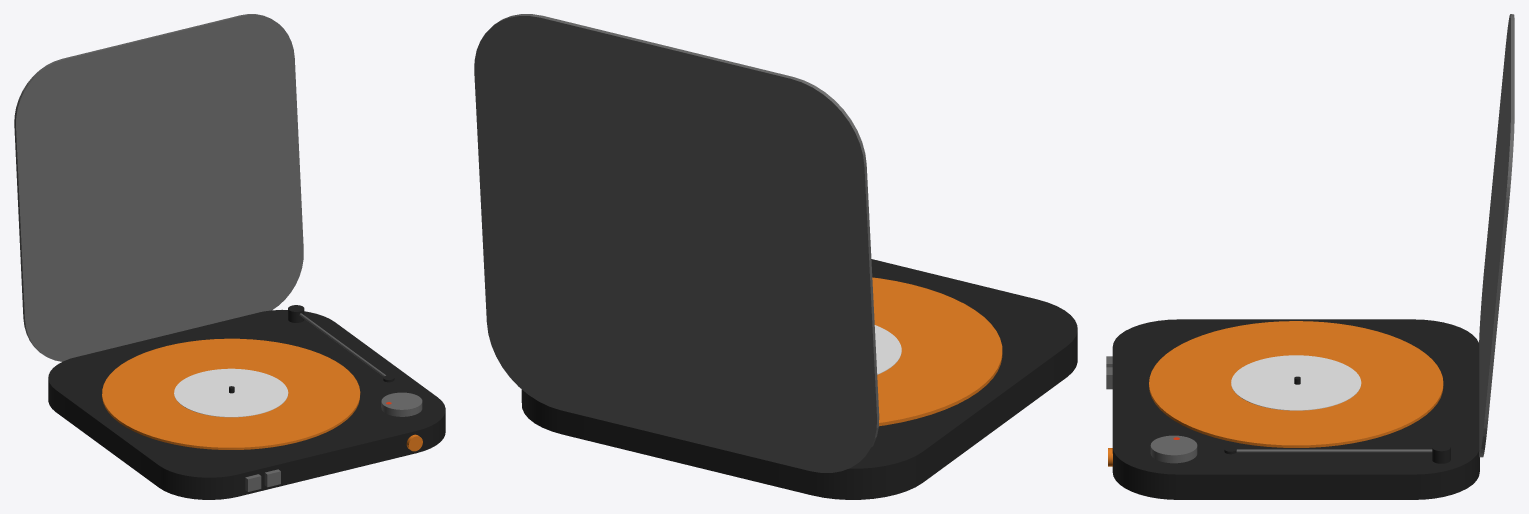
File: record_player.gltf
3 renders of one model, left to right at view 1: azimuth 30°, elevation 25°; view 2: azimuth 150°, elevation 25°; view 3: azimuth 270°, elevation 25°, orthographic. The views are drawn at different scales.
Visible parts, largest first — view 1: 立方体.004, 立方体, 円, 円.001, 円柱.007; view 2: 立方体.004, 立方体, 円, 円.001; view 3: 立方体, 円, 立方体.004, 円.001, 円柱.007, 円柱.004.
Part boxes in pixels (x1=…): 立方体.004: x1=14, y1=14, x2=303, y2=361; 立方体: x1=48, y1=309, x2=445, y2=499; 円: x1=102, y1=338, x2=360, y2=449; 円.001: x1=174, y1=368, x2=288, y2=417; 円柱.007: x1=381, y1=392, x2=422, y2=416; 立方体.004: x1=474, y1=14, x2=879, y2=472; 立方体: x1=521, y1=259, x2=1077, y2=499; 円: x1=872, y1=277, x2=1002, y2=426; 円.001: x1=874, y1=325, x2=901, y2=374; 立方体: x1=1112, y1=319, x2=1479, y2=499; 円: x1=1149, y1=321, x2=1443, y2=447; 立方体.004: x1=1479, y1=14, x2=1514, y2=457; 円.001: x1=1231, y1=355, x2=1361, y2=410; 円柱.007: x1=1150, y1=435, x2=1197, y2=463; 円柱.004: x1=1236, y1=449, x2=1432, y2=452.
Size of the model in its own units: 2 by 2.17 by 2.22.
